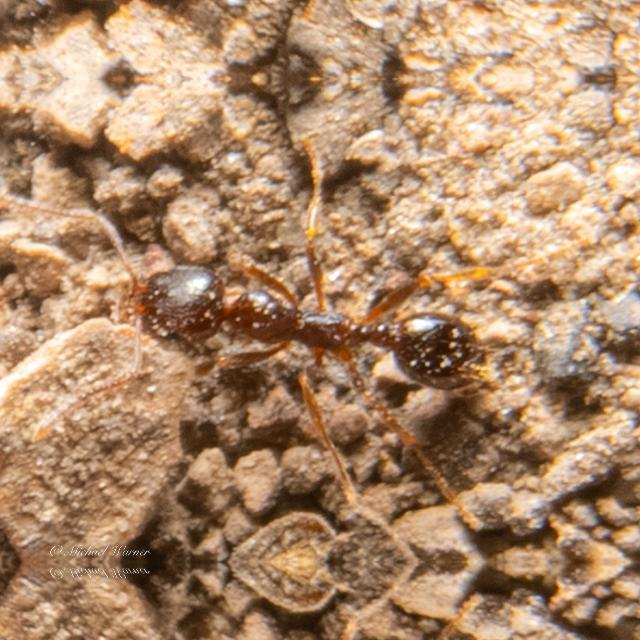Apheanogaster: (84, 216, 516, 429)
